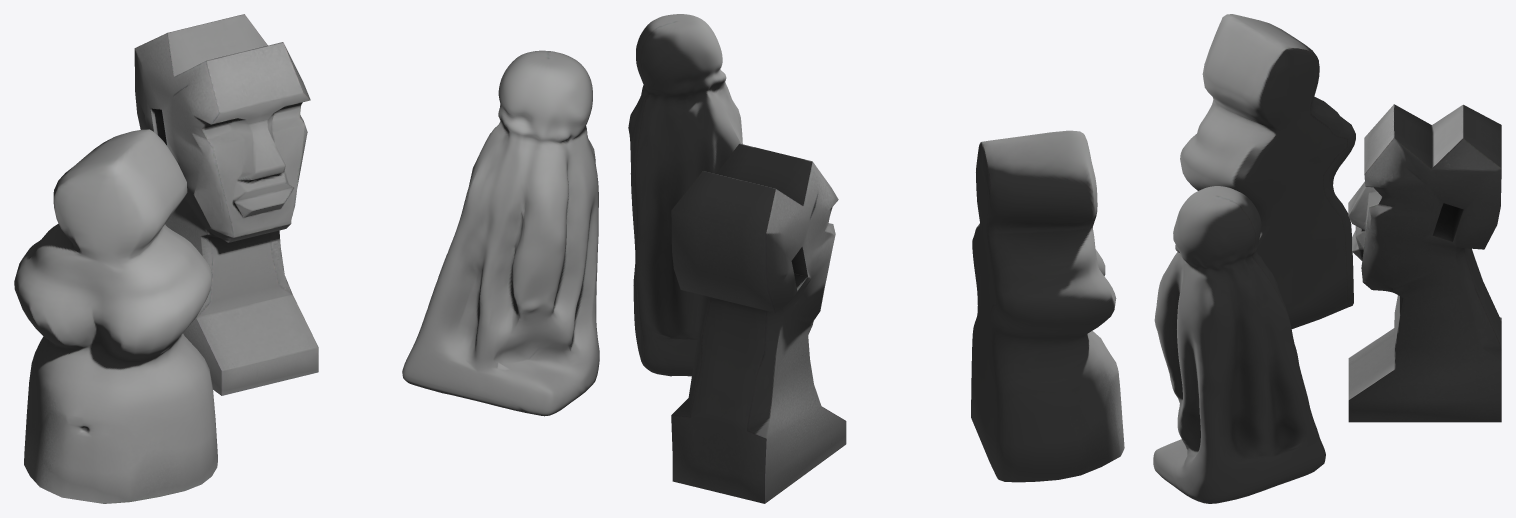
The model's file is EsculturaUmaTextura2.glb.
The picture shows the model from 3 angles, left to right: view 1: azimuth 30°, elevation 25°; view 2: azimuth 150°, elevation 25°; view 3: azimuth 270°, elevation 25°; orthographic projection. The views are drawn at different scales.
Visible parts, largest first — view 1: Ab_Geometria_Tres_Projetos_UPBGE_0440.002; view 2: Ab_Geometria_Tres_Projetos_UPBGE_0440.002; view 3: Ab_Geometria_Tres_Projetos_UPBGE_0440.002.
Boxes of the visible parts, x1=… form: Ab_Geometria_Tres_Projetos_UPBGE_0440.002: x1=14, y1=14, x2=599, y2=503; Ab_Geometria_Tres_Projetos_UPBGE_0440.002: x1=628, y1=14, x2=1124, y2=503; Ab_Geometria_Tres_Projetos_UPBGE_0440.002: x1=1153, y1=14, x2=1501, y2=503.
Size of the model in its own units: 2.08 by 1.24 by 1.32.
Materials: 1 (1 with a texture image).
